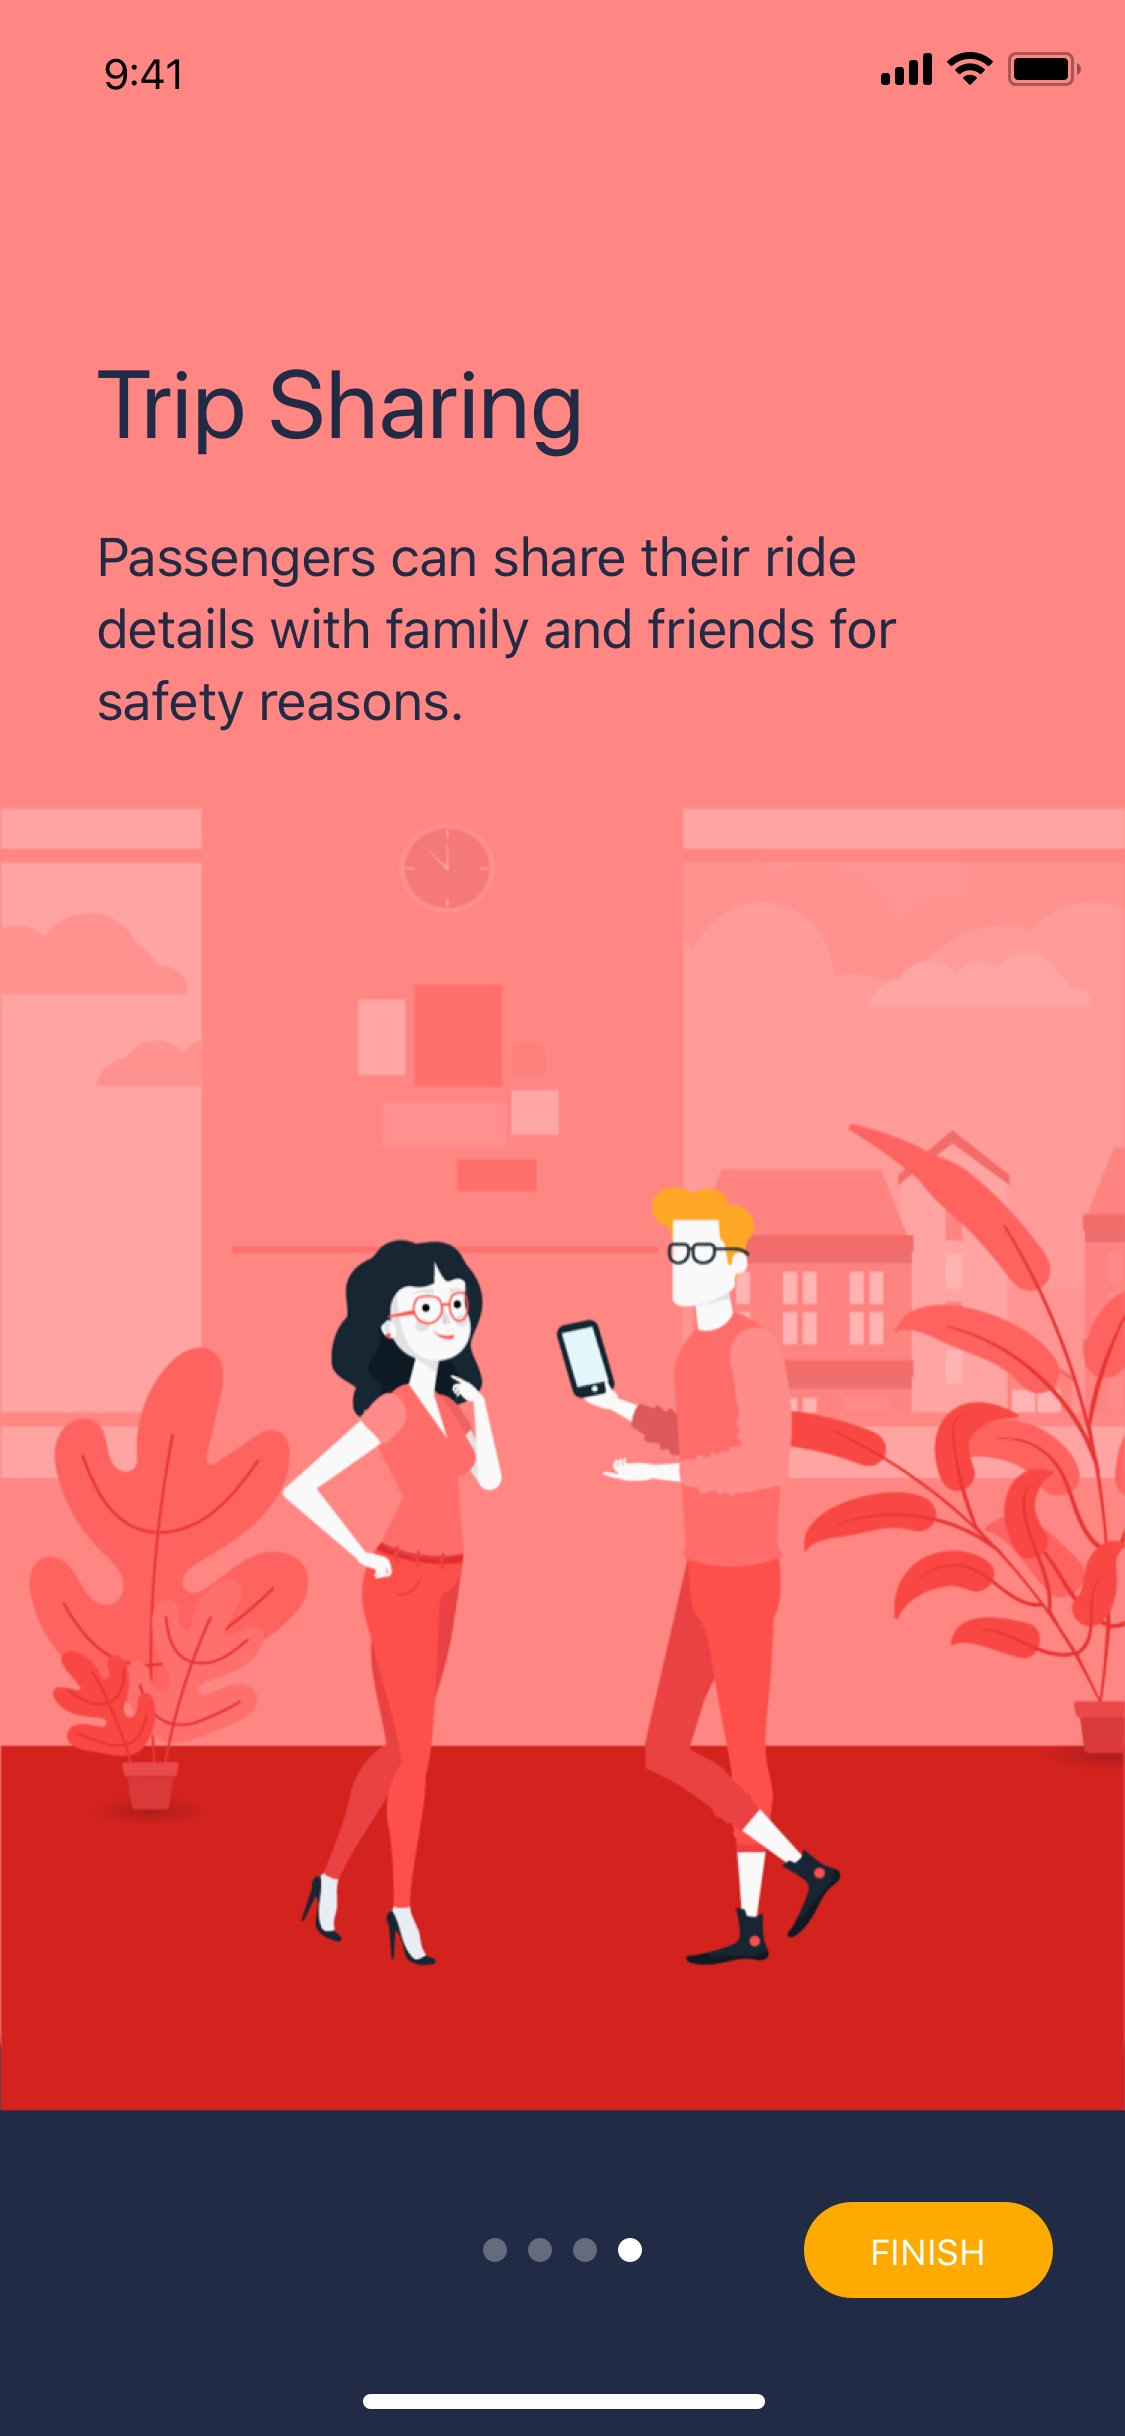Image: (2, 805, 1125, 2111)
PageIndicator: (482, 2237, 643, 2264)
Text: (96, 534, 898, 733), (96, 368, 583, 461)
TextButton: (803, 2201, 1054, 2299)
UpperTaskBar: (103, 50, 1085, 92)
